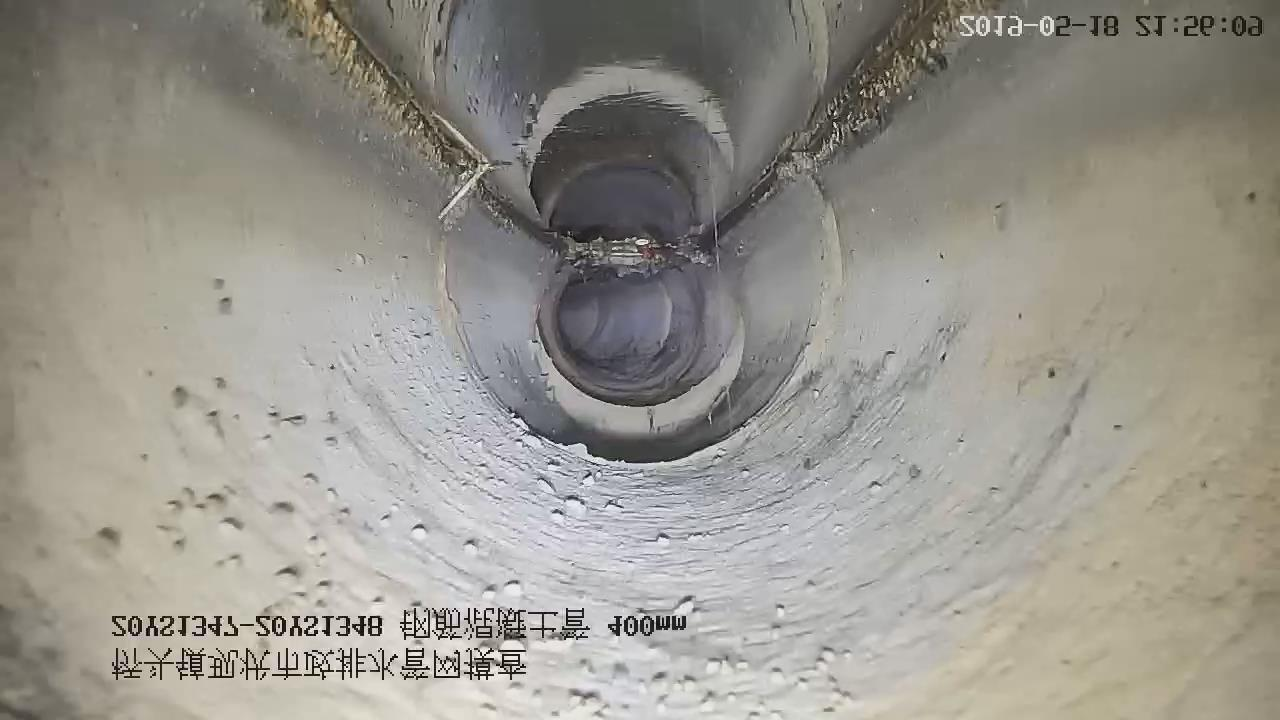CJ: (550, 233, 718, 277)
CKTJ: (540, 328, 743, 438)
